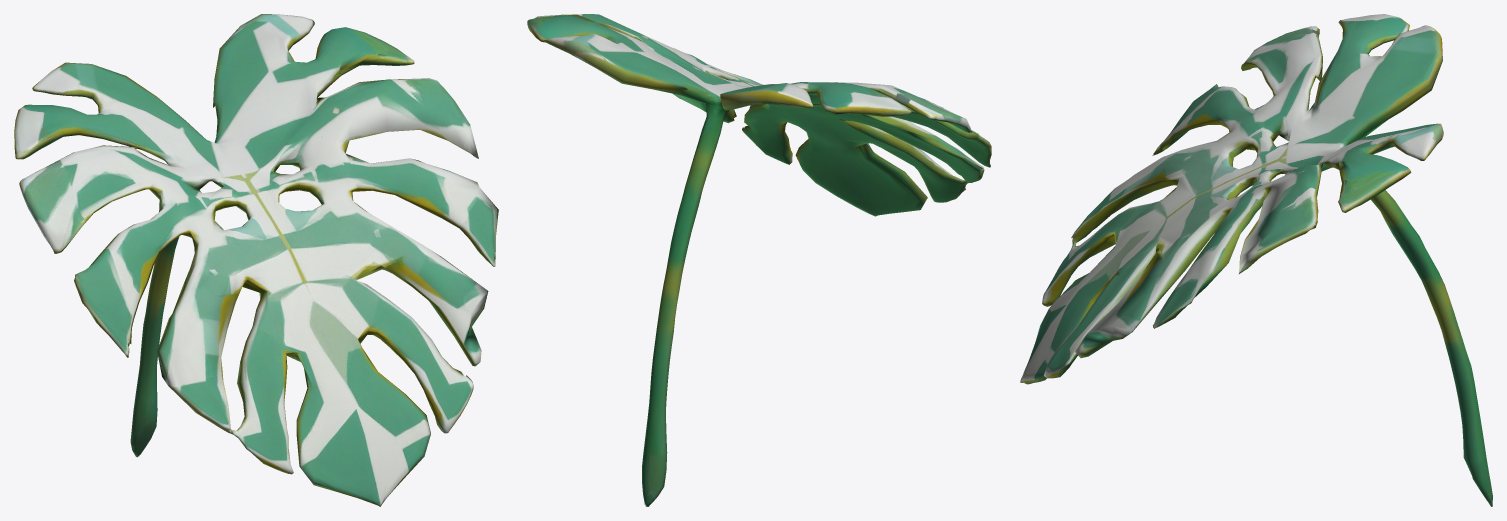
Rendered from mon_speckle_greencream.glb.
The picture shows the model from 3 angles, left to right: view 1: azimuth 30°, elevation 25°; view 2: azimuth 150°, elevation 25°; view 3: azimuth 270°, elevation 25°; orthographic projection. The views are drawn at different scales.
Bounding box in the file's own units: 2 × 1.96 × 1.97.
1 material, 1 textured.
